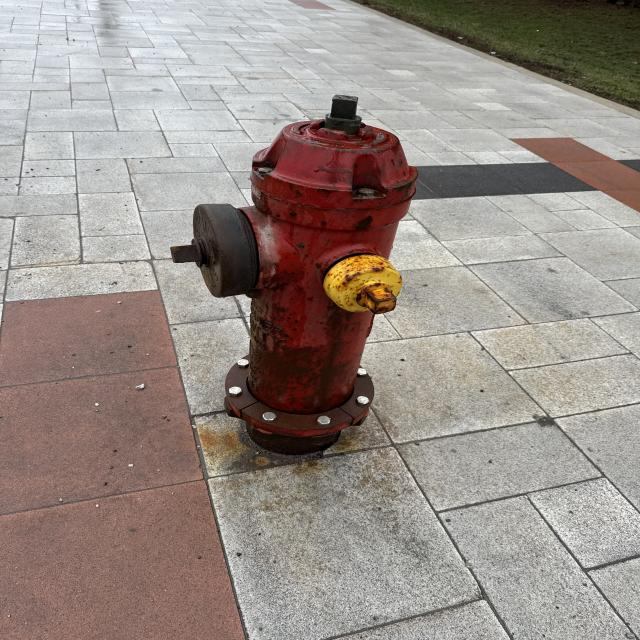Fire hydrant: (170, 94, 419, 456)
